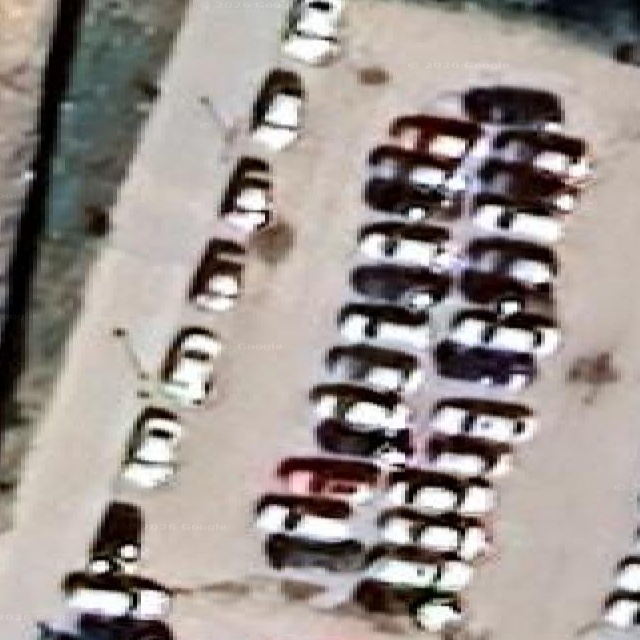car: (256, 493, 363, 571), (364, 144, 464, 220), (460, 236, 557, 306), (376, 507, 491, 560), (353, 577, 463, 632), (492, 128, 591, 183), (477, 159, 579, 212), (433, 339, 535, 391), (447, 308, 559, 355), (386, 467, 495, 515), (428, 396, 536, 444), (364, 544, 472, 592), (276, 455, 380, 504), (63, 572, 171, 619), (350, 261, 451, 311), (311, 382, 411, 431), (324, 343, 423, 392), (121, 408, 180, 487), (472, 192, 562, 243), (160, 328, 220, 404), (315, 420, 413, 466), (463, 84, 563, 129), (256, 493, 351, 540), (336, 303, 428, 350), (357, 221, 448, 268), (388, 114, 480, 160), (252, 68, 303, 150), (220, 156, 272, 236), (188, 239, 243, 311), (281, 0, 342, 64), (263, 533, 364, 571), (427, 433, 512, 477), (89, 502, 140, 573), (39, 613, 173, 639), (602, 588, 639, 630), (615, 555, 639, 592)
